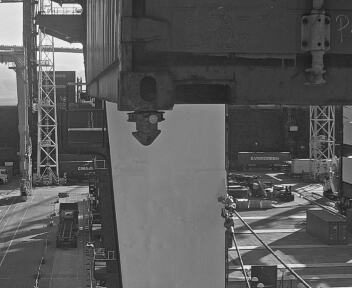twist_lock_2: (118, 110, 174, 156)
